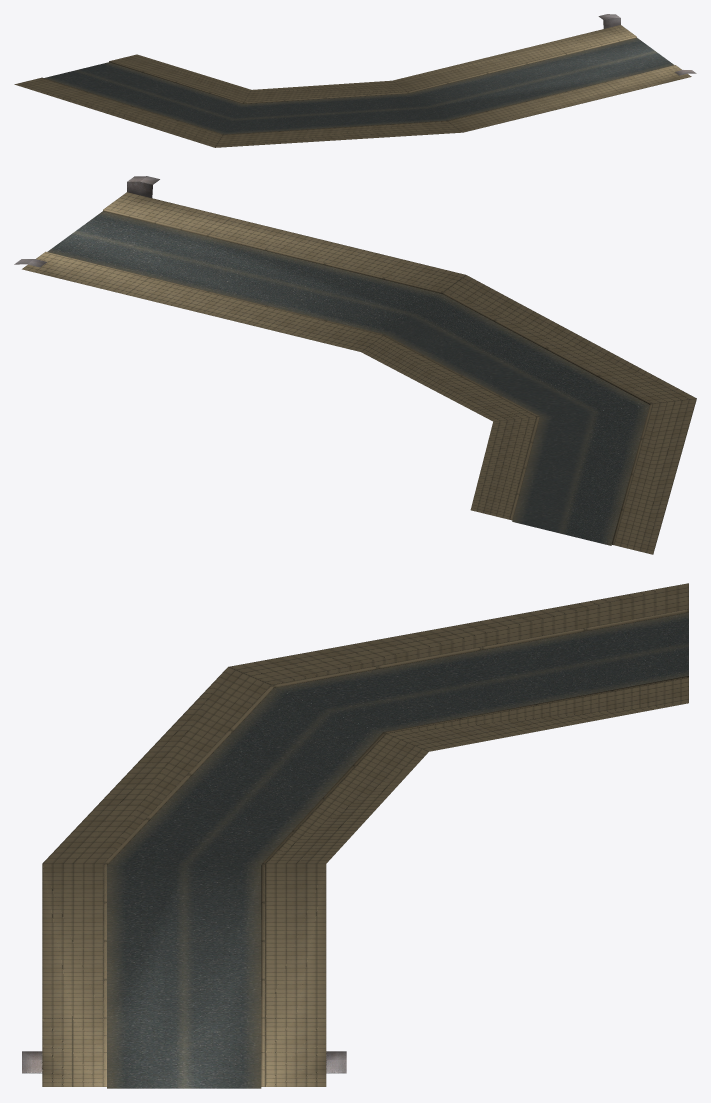
Rendered from M10_Z1_FlyOver4.glb.
3 renders of one model, top to bottom at view 1: azimuth 30°, elevation 25°; view 2: azimuth 150°, elevation 25°; view 3: azimuth 270°, elevation 25°, orthographic. The views are drawn at different scales.
Visible parts, largest first — view 1: M10_Z1_FLYOVER4; view 2: M10_Z1_FLYOVER4; view 3: M10_Z1_FLYOVER4.
Boxes of the visible parts, x1,y1,x2,y2 form: M10_Z1_FLYOVER4: (14,14,696,147); M10_Z1_FLYOVER4: (14,176,696,554); M10_Z1_FLYOVER4: (22,583,688,1088).
Bounding box in the file's own units: 58.73 × 1.1 × 32.87.
4 materials, 4 textured.
